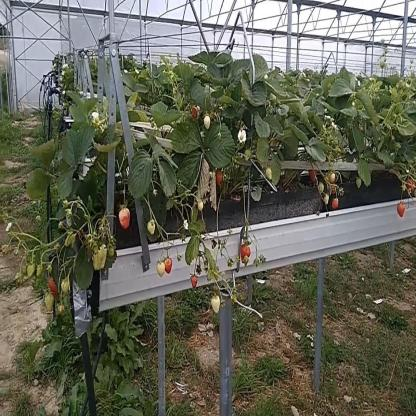ripe: (308, 163, 318, 184), (49, 276, 59, 297), (192, 102, 201, 122), (241, 243, 250, 262), (163, 256, 172, 274), (407, 178, 415, 196), (396, 202, 405, 218), (216, 170, 223, 184), (190, 275, 197, 288), (332, 198, 338, 211), (244, 256, 249, 269)
unripe: (118, 207, 131, 227), (98, 244, 107, 269), (92, 251, 102, 269), (211, 296, 220, 315), (147, 219, 156, 236), (156, 261, 165, 277), (44, 293, 53, 308), (64, 233, 73, 247), (265, 167, 273, 181), (27, 263, 34, 278), (36, 264, 42, 278), (204, 116, 210, 130), (108, 246, 116, 256), (62, 280, 68, 293), (197, 200, 204, 210), (355, 178, 362, 188), (329, 173, 336, 182), (245, 150, 250, 160), (319, 182, 324, 192), (324, 196, 329, 206)
